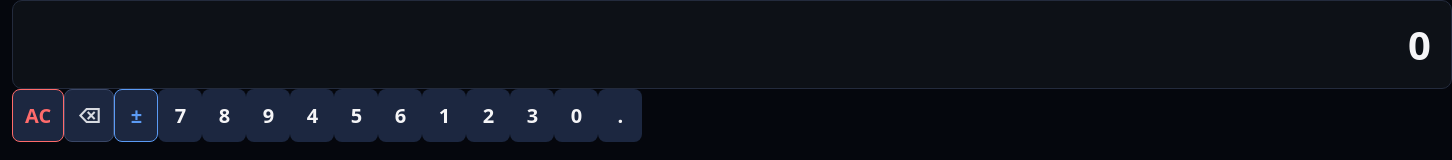
it: Keypad + Display wired through the real reducer › a digit press updates the rendered display
What coordinates should you click on to do the following:
click the button "7"
I would click on:
 (180, 116)
Its box is left=158, top=89, right=202, bottom=142.
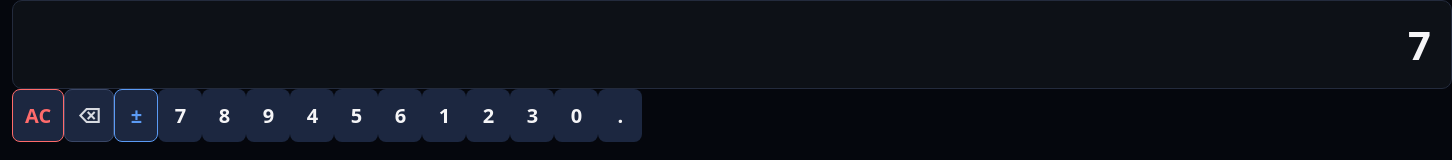
Check: the text "7" is shown, box left=1408, top=17, right=1431, bottom=72
